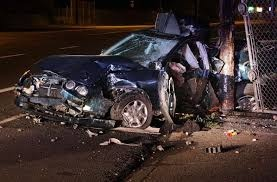Smashed: (12, 36, 210, 117)
